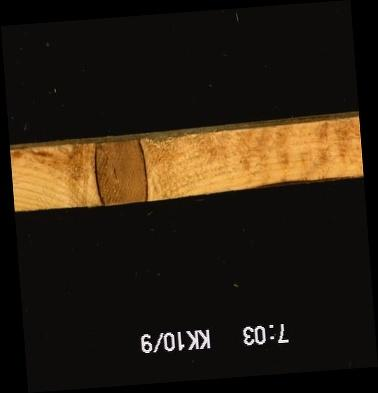edge_knot: (93, 135, 149, 206)
